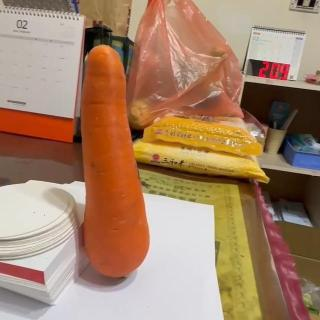carrot: (82, 42, 151, 282)
